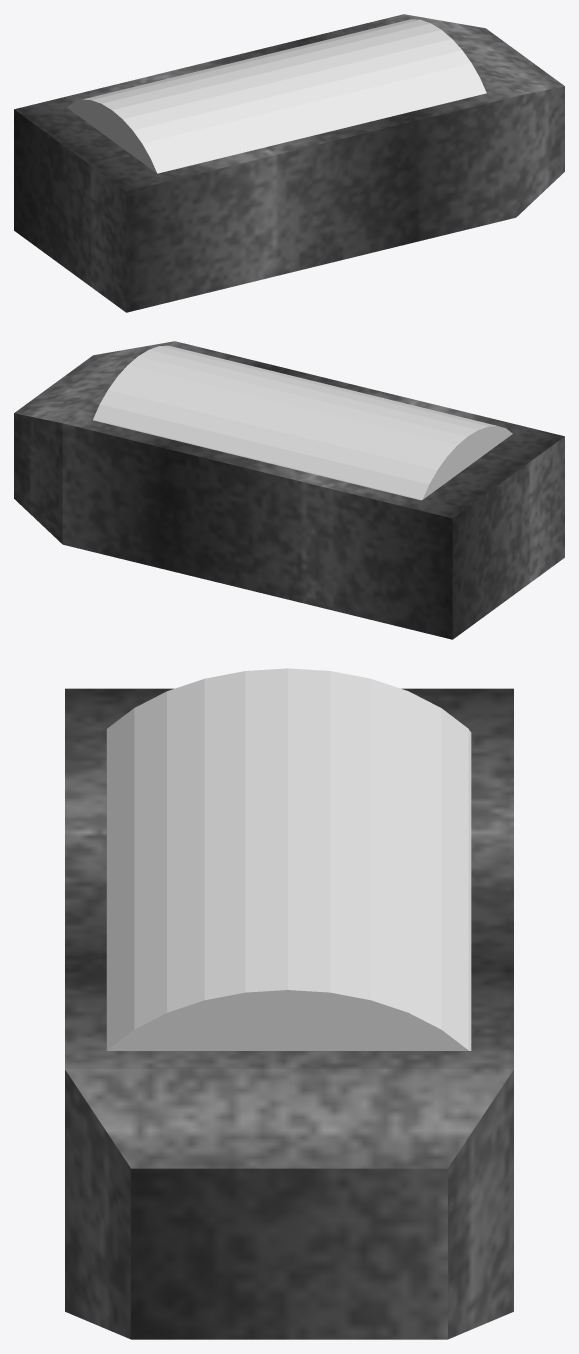
Rendered from Cryopod.fbx.
3 views of the same model, one above another, from view 1: azimuth 30°, elevation 25°; view 2: azimuth 150°, elevation 25°; view 3: azimuth 270°, elevation 25° (orthographic). The views are drawn at different scales.
Visible parts, largest first — view 1: Chamber, Glass; view 2: Chamber, Glass; view 3: Chamber, Glass.
Part boxes in pixels (<box>): Chamber: <box>14,14,564,312</box>; Glass: <box>67,19,486,173</box>; Chamber: <box>14,341,564,639</box>; Glass: <box>93,345,512,500</box>; Chamber: <box>65,688,513,1339</box>; Glass: <box>106,668,471,1050</box>.
Size of the model in its own units: 4.26 by 9.96 by 3.17.
Materials: 1 (1 with a texture image).
